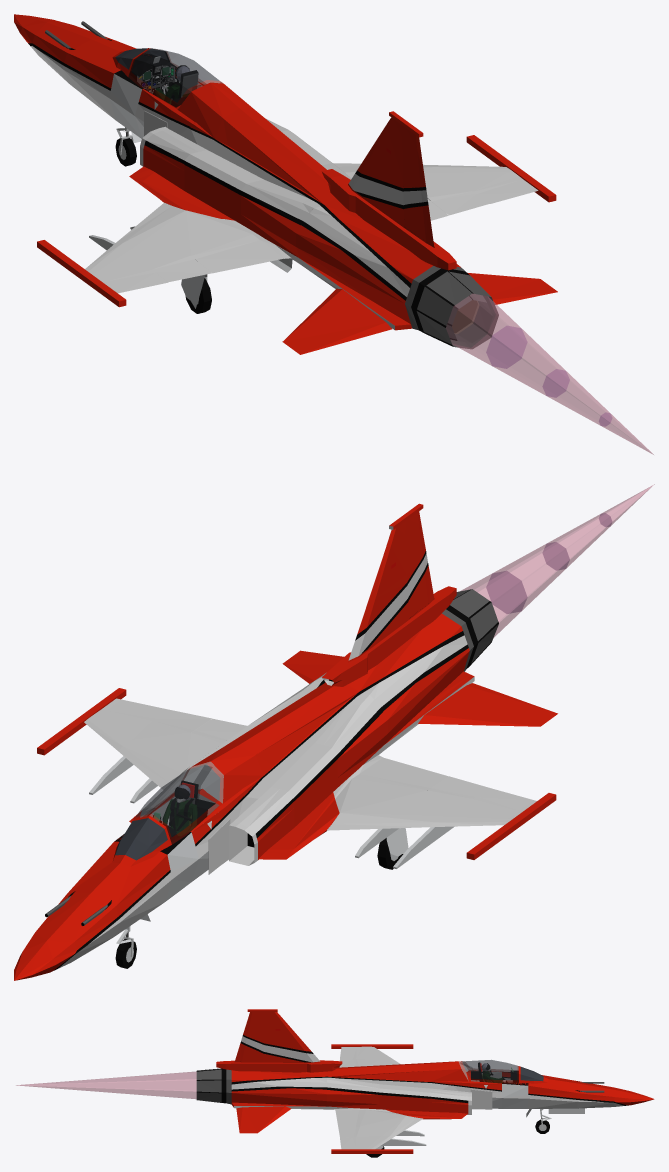
3 views of the same model, one above another, from view 1: azimuth 30°, elevation 25°; view 2: azimuth 150°, elevation 25°; view 3: azimuth 270°, elevation 25° (orthographic). The views are drawn at different scales.
Visible parts, largest first — view 1: ShapeIndexedFaceSet_ShapeIndexedFaceSet.001, ShapeIndexedFaceSet.001_ShapeIndexedFaceSet.002, ShapeIndexedFaceSet.085_ShapeIndexedFaceSet.086, ShapeIndexedFaceSet.091_ShapeIndexedFaceSet.092, ShapeIndexedFaceSet.067_ShapeIndexedFaceSet.068, ShapeIndexedFaceSet.082_ShapeIndexedFaceSet.083, ShapeIndexedFaceSet.002_ShapeIndexedFaceSet.003, ShapeIndexedFaceSet.088_ShapeIndexedFaceSet.089, ShapeIndexedFaceSet.084_ShapeIndexedFaceSet.085, ShapeIndexedFaceSet.071_ShapeIndexedFaceSet.072, ShapeIndexedFaceSet.064_ShapeIndexedFaceSet.065, ShapeIndexedFaceSet.075_ShapeIndexedFaceSet.076 (+11 smaller); view 2: ShapeIndexedFaceSet_ShapeIndexedFaceSet.001, ShapeIndexedFaceSet.001_ShapeIndexedFaceSet.002, ShapeIndexedFaceSet.091_ShapeIndexedFaceSet.092, ShapeIndexedFaceSet.085_ShapeIndexedFaceSet.086, ShapeIndexedFaceSet.067_ShapeIndexedFaceSet.068, ShapeIndexedFaceSet.088_ShapeIndexedFaceSet.089, ShapeIndexedFaceSet.002_ShapeIndexedFaceSet.003, ShapeIndexedFaceSet.008_ShapeIndexedFaceSet.009, ShapeIndexedFaceSet.071_ShapeIndexedFaceSet.072, ShapeIndexedFaceSet.084_ShapeIndexedFaceSet.085, ShapeIndexedFaceSet.089_ShapeIndexedFaceSet.090, ShapeIndexedFaceSet.070_ShapeIndexedFaceSet.071 (+8 smaller); view 3: ShapeIndexedFaceSet_ShapeIndexedFaceSet.001, ShapeIndexedFaceSet.001_ShapeIndexedFaceSet.002, ShapeIndexedFaceSet.091_ShapeIndexedFaceSet.092, ShapeIndexedFaceSet.085_ShapeIndexedFaceSet.086, ShapeIndexedFaceSet.002_ShapeIndexedFaceSet.003, ShapeIndexedFaceSet.064_ShapeIndexedFaceSet.065, ShapeIndexedFaceSet.088_ShapeIndexedFaceSet.089, ShapeIndexedFaceSet.008_ShapeIndexedFaceSet.009, ShapeIndexedFaceSet.082_ShapeIndexedFaceSet.083, ShapeIndexedFaceSet.070_ShapeIndexedFaceSet.071, ShapeIndexedFaceSet.092_ShapeIndexedFaceSet.093, ShapeIndexedFaceSet.076_ShapeIndexedFaceSet.077 (+7 smaller).
Part boxes in pixels (x1=…): ShapeIndexedFaceSet_ShapeIndexedFaceSet.001: x1=14, y1=14, x2=556, y2=330; ShapeIndexedFaceSet.001_ShapeIndexedFaceSet.002: x1=31, y1=46, x2=538, y2=329; ShapeIndexedFaceSet.085_ShapeIndexedFaceSet.086: x1=446, y1=293, x2=653, y2=454; ShapeIndexedFaceSet.091_ShapeIndexedFaceSet.092: x1=321, y1=111, x2=456, y2=270; ShapeIndexedFaceSet.067_ShapeIndexedFaceSet.068: x1=282, y1=288, x2=392, y2=354; ShapeIndexedFaceSet.082_ShapeIndexedFaceSet.083: x1=416, y1=271, x2=498, y2=348; ShapeIndexedFaceSet.002_ShapeIndexedFaceSet.003: x1=28, y1=39, x2=411, y2=300; ShapeIndexedFaceSet.088_ShapeIndexedFaceSet.089: x1=131, y1=48, x2=219, y2=102; ShapeIndexedFaceSet.084_ShapeIndexedFaceSet.085: x1=486, y1=326, x2=612, y2=426; ShapeIndexedFaceSet.071_ShapeIndexedFaceSet.072: x1=87, y1=202, x2=185, y2=272; ShapeIndexedFaceSet.064_ShapeIndexedFaceSet.065: x1=467, y1=272, x2=557, y2=304; ShapeIndexedFaceSet.075_ShapeIndexedFaceSet.076: x1=195, y1=240, x2=283, y2=273; ShapeIndexedFaceSet_ShapeIndexedFaceSet.001: x1=14, y1=613, x2=556, y2=980; ShapeIndexedFaceSet.001_ShapeIndexedFaceSet.002: x1=58, y1=635, x2=536, y2=968; ShapeIndexedFaceSet.091_ShapeIndexedFaceSet.092: x1=322, y1=503, x2=456, y2=686; ShapeIndexedFaceSet.085_ShapeIndexedFaceSet.086: x1=460, y1=484, x2=654, y2=637; ShapeIndexedFaceSet.067_ShapeIndexedFaceSet.068: x1=418, y1=683, x2=557, y2=726; ShapeIndexedFaceSet.088_ShapeIndexedFaceSet.089: x1=135, y1=764, x2=219, y2=836; ShapeIndexedFaceSet.002_ShapeIndexedFaceSet.003: x1=45, y1=631, x2=468, y2=970; ShapeIndexedFaceSet.008_ShapeIndexedFaceSet.009: x1=149, y1=761, x2=223, y2=901; ShapeIndexedFaceSet.071_ShapeIndexedFaceSet.072: x1=327, y1=813, x2=507, y2=830; ShapeIndexedFaceSet.084_ShapeIndexedFaceSet.085: x1=486, y1=513, x2=612, y2=613; ShapeIndexedFaceSet.089_ShapeIndexedFaceSet.090: x1=89, y1=756, x2=454, y2=868; ShapeIndexedFaceSet.070_ShapeIndexedFaceSet.071: x1=87, y1=718, x2=181, y2=789; ShapeIndexedFaceSet_ShapeIndexedFaceSet.001: x1=231, y1=1044, x2=654, y2=1153; ShapeIndexedFaceSet.001_ShapeIndexedFaceSet.002: x1=231, y1=1046, x2=624, y2=1149; ShapeIndexedFaceSet.091_ShapeIndexedFaceSet.092: x1=216, y1=1009, x2=342, y2=1072; ShapeIndexedFaceSet.085_ShapeIndexedFaceSet.086: x1=16, y1=1071, x2=196, y2=1098; ShapeIndexedFaceSet.002_ShapeIndexedFaceSet.003: x1=231, y1=1076, x2=627, y2=1105; ShapeIndexedFaceSet.064_ShapeIndexedFaceSet.065: x1=236, y1=1106, x2=291, y2=1133; ShapeIndexedFaceSet.088_ShapeIndexedFaceSet.089: x1=462, y1=1060, x2=517, y2=1079; ShapeIndexedFaceSet.008_ShapeIndexedFaceSet.009: x1=459, y1=1061, x2=528, y2=1108; ShapeIndexedFaceSet.082_ShapeIndexedFaceSet.083: x1=196, y1=1068, x2=221, y2=1102; ShapeIndexedFaceSet.070_ShapeIndexedFaceSet.071: x1=368, y1=1115, x2=422, y2=1148; ShapeIndexedFaceSet.092_ShapeIndexedFaceSet.093: x1=241, y1=1036, x2=320, y2=1062; ShapeIndexedFaceSet.076_ShapeIndexedFaceSet.077: x1=235, y1=1039, x2=263, y2=1061.
Bounding box in the file's own units: 80.4 × 43.29 × 204.
